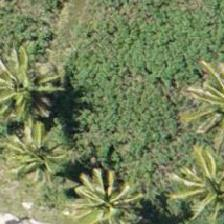coconut_tree: (0, 106, 85, 196), (57, 151, 147, 223), (0, 44, 62, 134), (171, 138, 223, 223)
